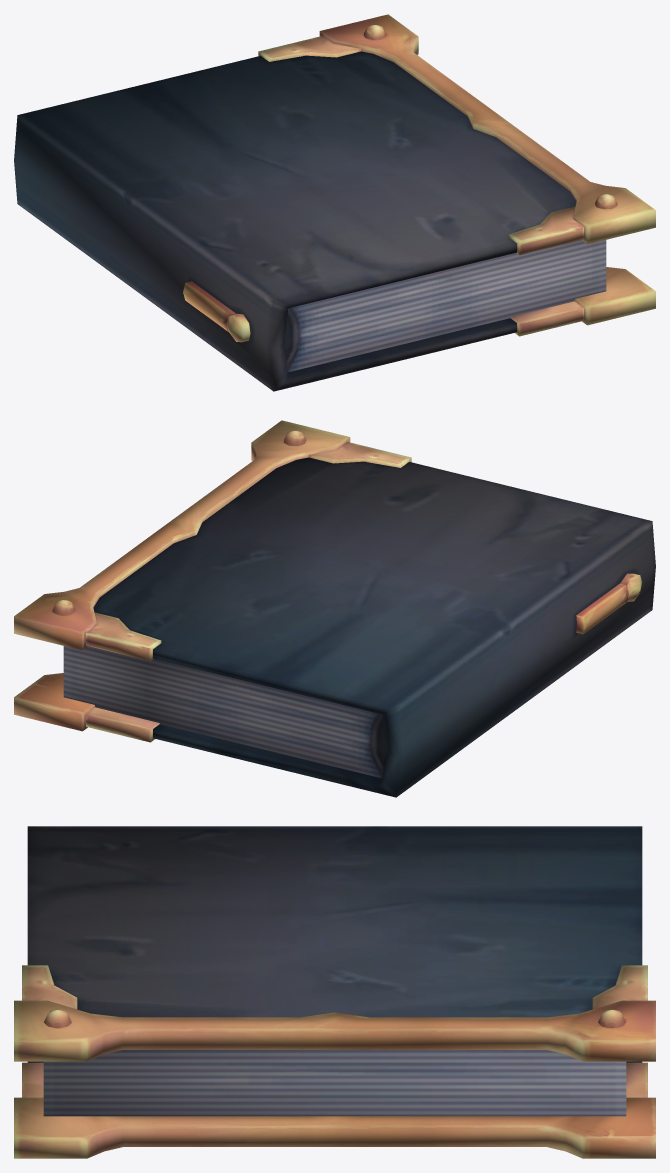
3 renders of one model, top to bottom at view 1: azimuth 30°, elevation 25°; view 2: azimuth 150°, elevation 25°; view 3: azimuth 270°, elevation 25°, orthographic. The views are drawn at different scales.
Parts seen in each view (by area): view 1: "Editable Poly"; view 2: "Editable Poly"; view 3: "Editable Poly".
Part boxes in pixels (box(x1,y1,x2,y2)): "Editable Poly": box(14, 14, 655, 391); "Editable Poly": box(14, 420, 655, 797); "Editable Poly": box(14, 826, 655, 1158).
Bounding box in the file's own units: 0.589 × 0.1708 × 0.6962.
